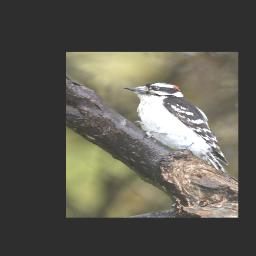Woodpecker: (122, 82, 228, 175)
